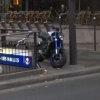Motorcycle: (29, 26, 74, 72)
